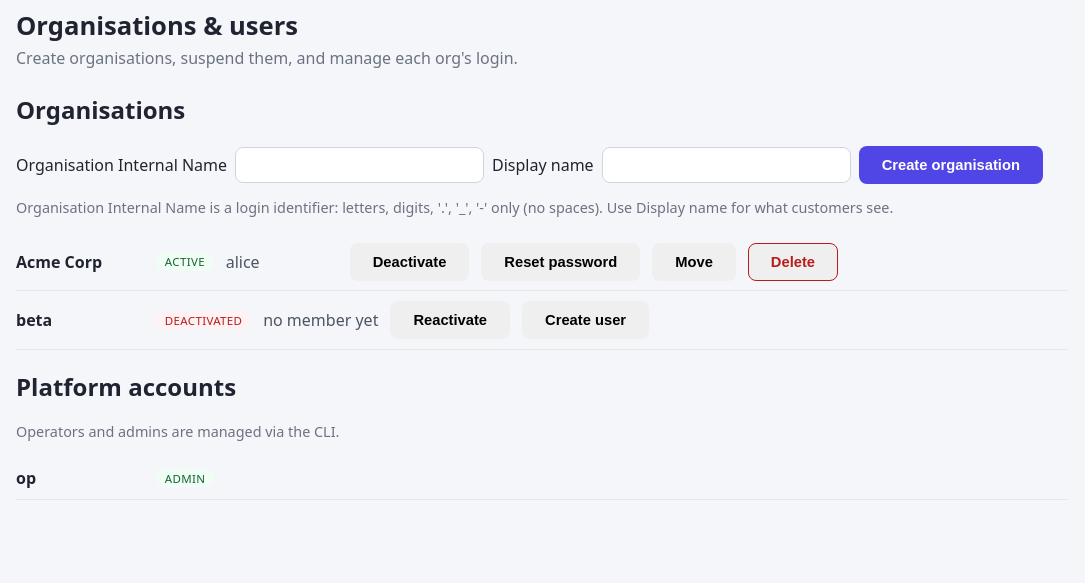
Test case: AccountsPage › creates a user for an org with no member
Check: the text "Acme Corp" is shown, box [16,251,102,273]
Click the button with aria-label "create user for beta".
click(586, 320)  # box [522,301,649,339]
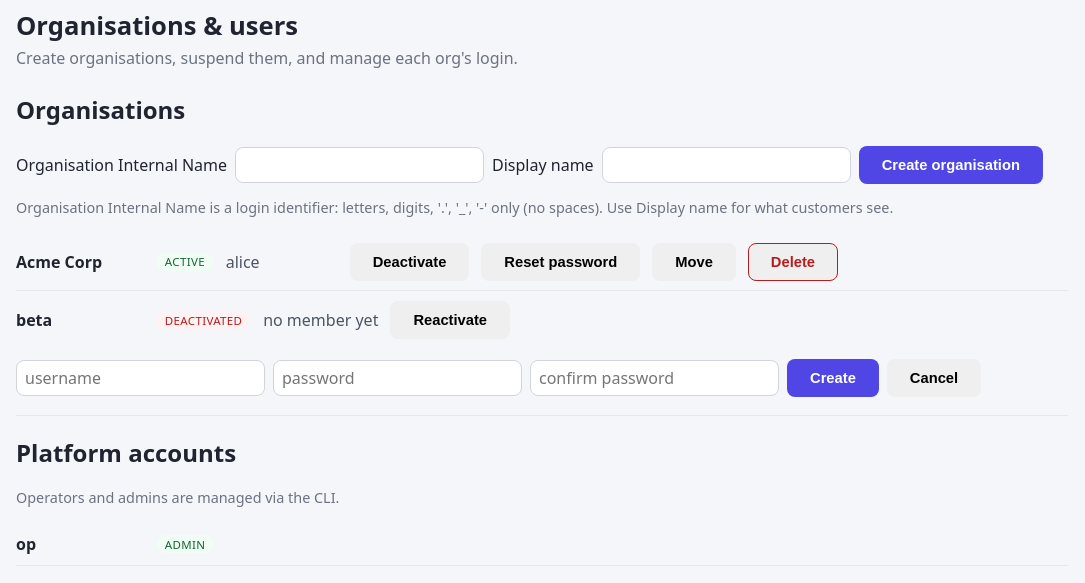
Type "bob" into the field named "Username for beta".
click(140, 378); type("bob")  # box [16,360,265,396]
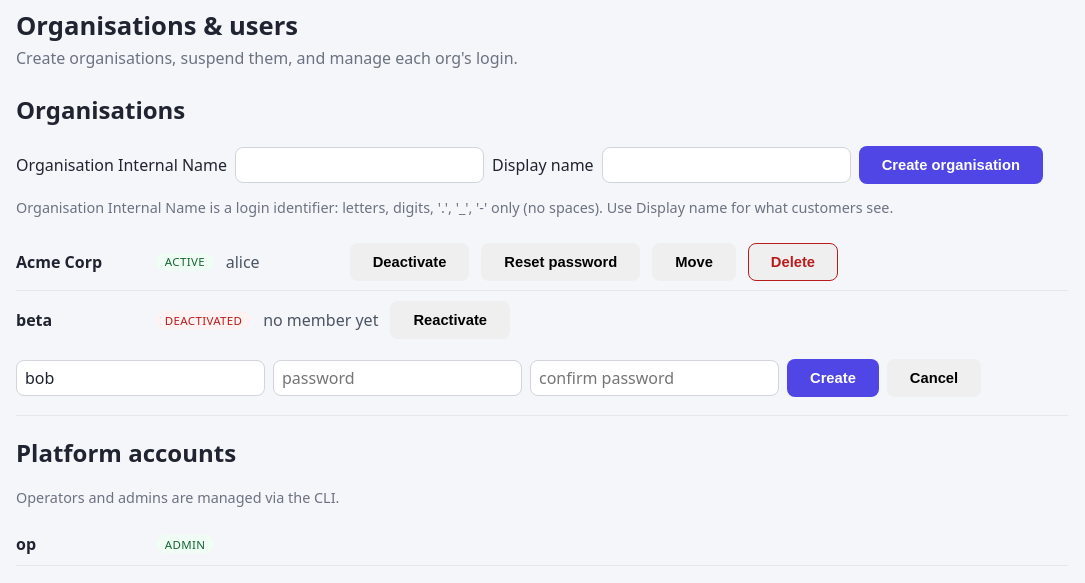
Type "pw" into the password field named "Password for beta".
click(398, 378); type("pw")  # box [273,360,522,396]
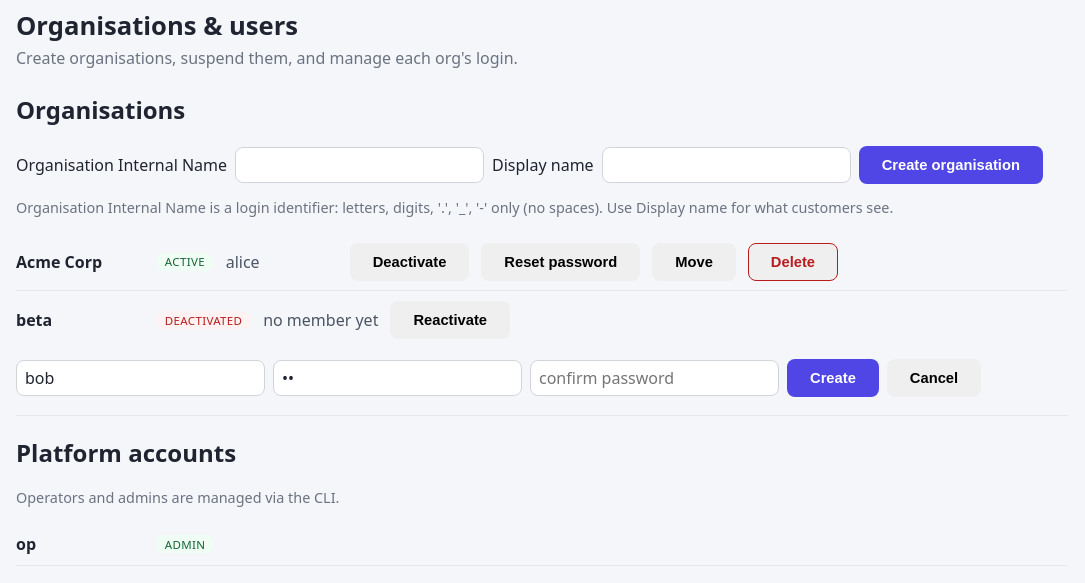
Type "pw" into the password field named "Confirm password for beta".
click(654, 378); type("pw")  # box [530,360,779,396]
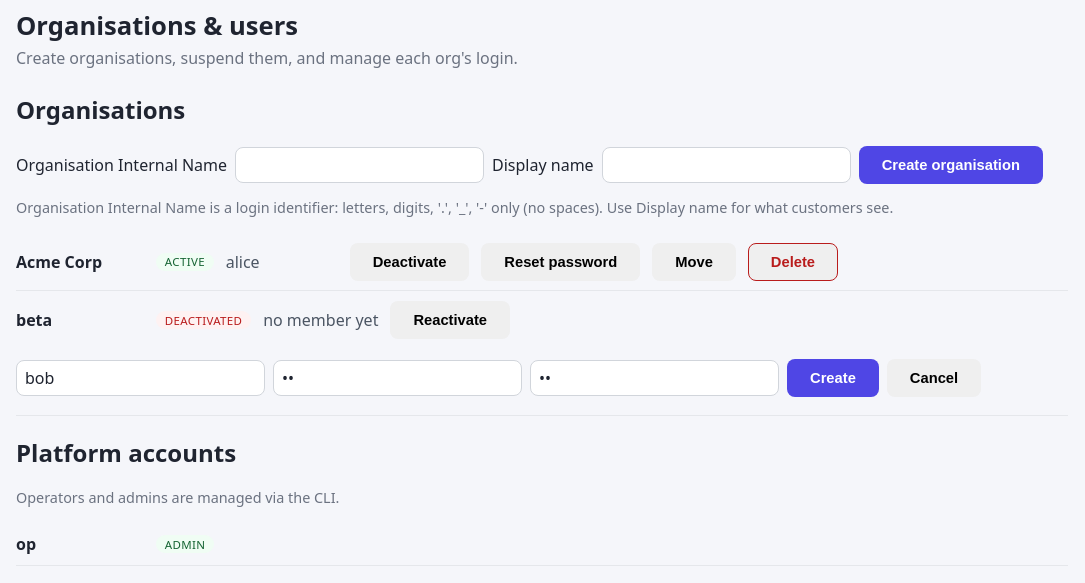
Click the button "Create".
click(833, 378)  # box [787,359,879,397]
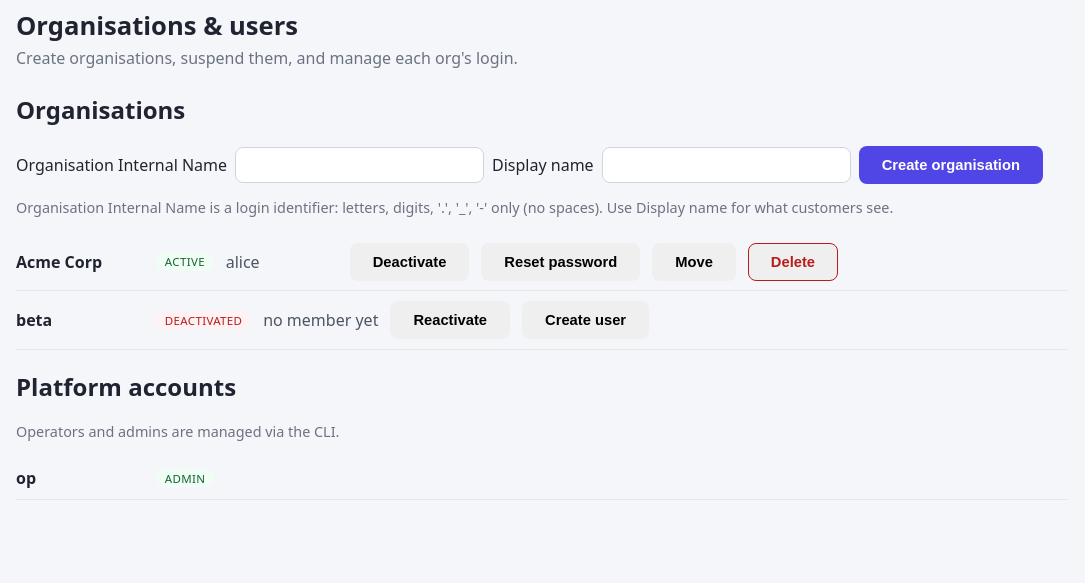
Check: the button with aria-label "create user for beta" is shown, box [522,301,649,339]
